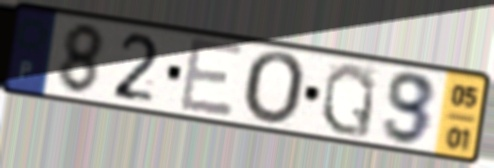2: (112, 31, 161, 107)
8: (56, 21, 107, 97)
9: (380, 70, 441, 149)
E: (177, 34, 247, 119)
O: (242, 49, 310, 130)
Q: (318, 60, 379, 141)
